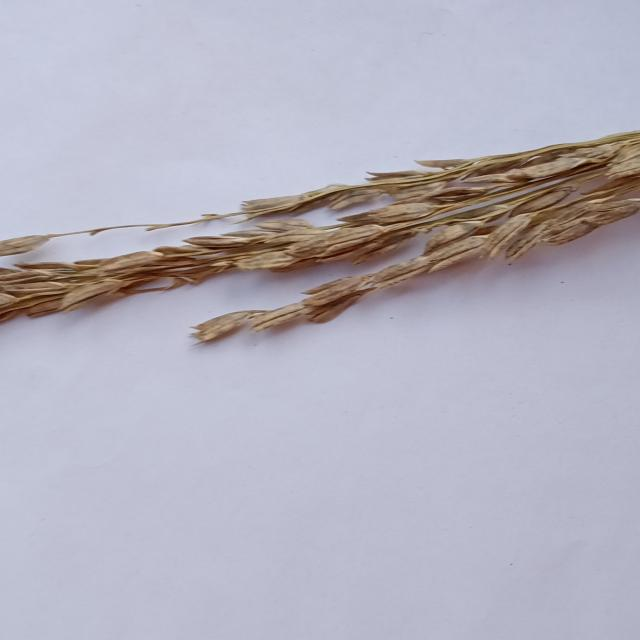Neck_Blast: (6, 130, 640, 320), (197, 173, 640, 349)
